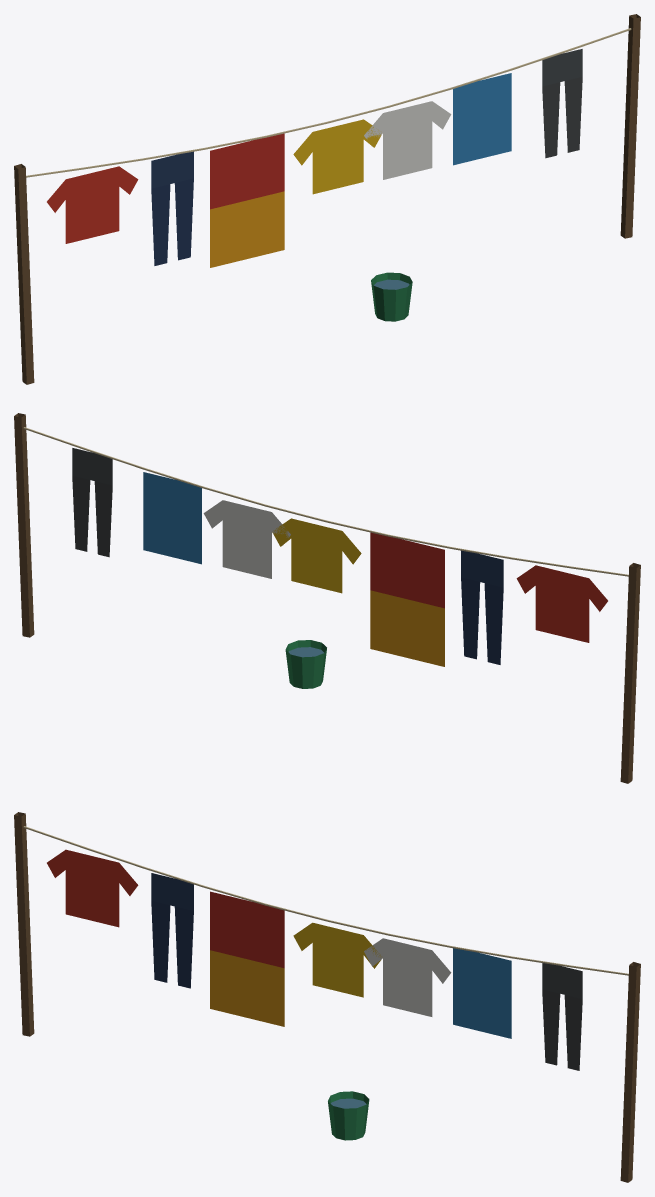
File: ns_camp_line_lod1.glb
The picture shows the model from 3 angles, top to bottom: view 1: azimuth 30°, elevation 25°; view 2: azimuth 150°, elevation 25°; view 3: azimuth 330°, elevation 25°; orthographic projection.
Visible parts, largest first — view 1: ns_camp_line_lod1; view 2: ns_camp_line_lod1; view 3: ns_camp_line_lod1.
Part boxes in pixels (left/top/right/bottom): ns_camp_line_lod1: left=14, top=14, right=640, bottom=384; ns_camp_line_lod1: left=14, top=413, right=640, bottom=783; ns_camp_line_lod1: left=14, top=812, right=640, bottom=1182.
Size of the model in its own units: 5.83 by 1.95 by 0.5467.
